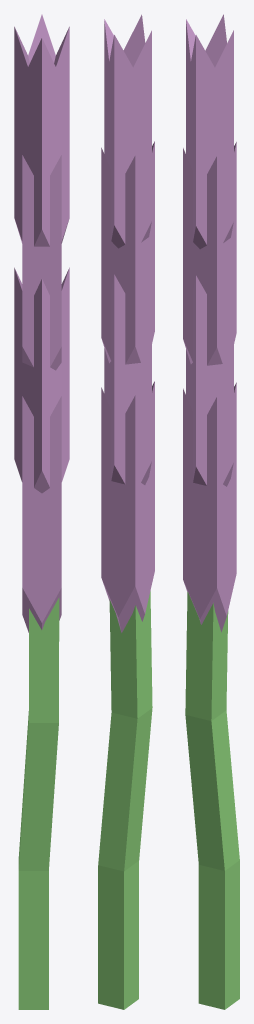
File: Lavender.fbx
3 renders of one model, left to right at view 1: azimuth 90°, elevation 25°; view 2: azimuth 150°, elevation 25°; view 3: azimuth 330°, elevation 25°, orthographic.
Visible parts, largest first — view 1: Lavender; view 2: Lavender; view 3: Lavender.
Boxes of the visible parts, box(x1,y1,x2,y2) form: Lavender: box(14, 14, 69, 1009); Lavender: box(98, 14, 154, 1009); Lavender: box(183, 14, 239, 1009).
Size of the model in its own units: 32.21 by 627 by 32.21.
